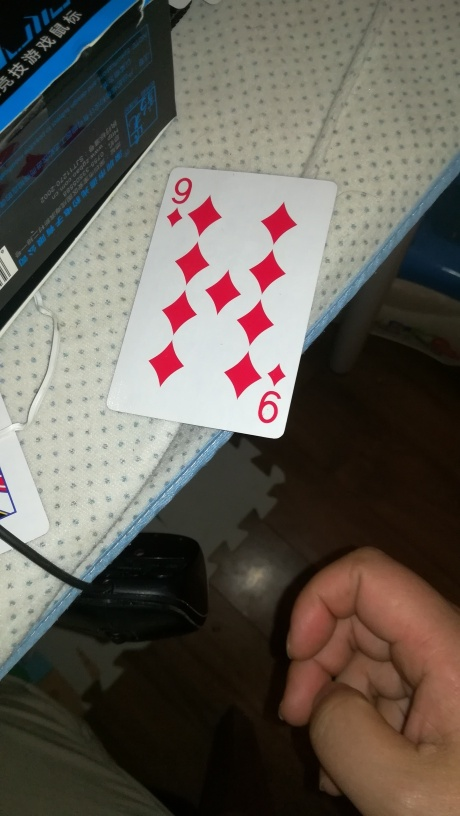fk 9: (103, 163, 336, 437)
